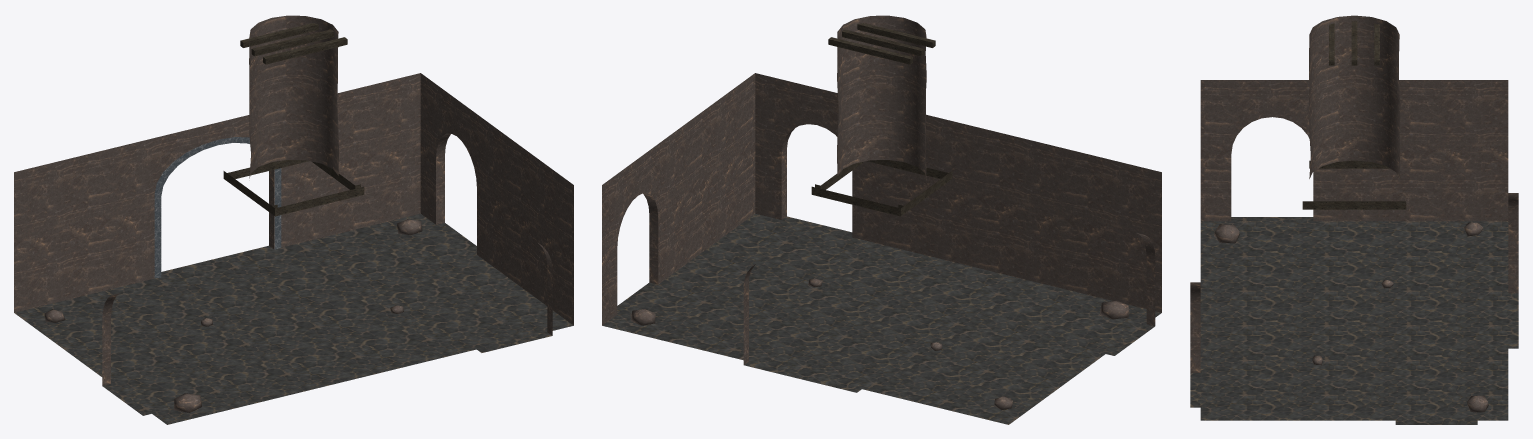
Rendered from extraction-gate.b12fc6cd.gltf.
3 renders of one model, left to right at view 1: azimuth 30°, elevation 25°; view 2: azimuth 150°, elevation 25°; view 3: azimuth 270°, elevation 25°, orthographic.
Parts seen in each view (by area): view 1: extraction-gate-mesh, extraction-gate-shaft, extraction-gate-way-out; view 2: extraction-gate-mesh, extraction-gate-shaft, extraction-gate-way-out; view 3: extraction-gate-mesh, extraction-gate-shaft, extraction-gate-way-out.
Boxes of the visible parts, left/top/right/bottom form: extraction-gate-mesh: left=14, top=73, right=573, bottom=424; extraction-gate-shaft: left=249, top=15, right=338, bottom=178; extraction-gate-way-out: left=223, top=23, right=364, bottom=216; extraction-gate-mesh: left=602, top=73, right=1161, bottom=424; extraction-gate-shaft: left=837, top=15, right=926, bottom=180; extraction-gate-way-out: left=811, top=23, right=952, bottom=216; extraction-gate-mesh: left=1190, top=80, right=1518, bottom=424; extraction-gate-shaft: left=1309, top=15, right=1400, bottom=178; extraction-gate-way-out: left=1302, top=21, right=1406, bottom=209.
Bounding box in the file's own units: 12 × 7.81 × 8.
5 materials, 4 textured.
